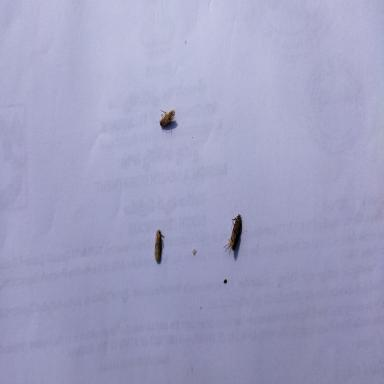pbw: (223, 214, 242, 252), (154, 228, 165, 262), (159, 109, 176, 127)
